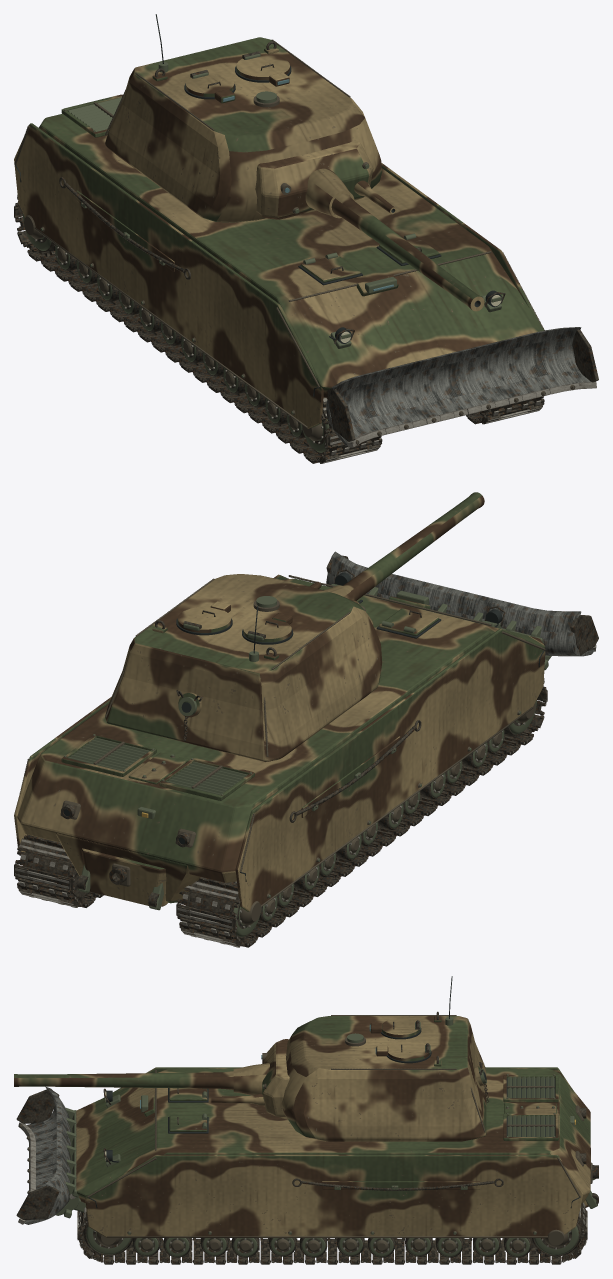
The model's file is maus-engineering.glb.
3 views of the same model, one above another, from view 1: azimuth 30°, elevation 25°; view 2: azimuth 150°, elevation 25°; view 3: azimuth 270°, elevation 25° (orthographic). The views are drawn at different scales.
Parts seen in each view (by area): view 1: 02 · Welded upper hull and glacis, 03 · Continuous deep side armor L, Turret · rolled bow, pitched cheeks and rear armor, Continuous curved moldboard shell, Asymmetric cast gun cradle, Main gun exterior, Bolstered barrel collar, 03 · Continuous deep side armor R, Commander low hatch cover, Flush deck hatch L, Moldboard outer cheek -1, Gunner low hatch cover (+5 smaller); view 2: Turret · rolled bow, pitched cheeks and rear armor, 02 · Welded upper hull and glacis, 03 · Continuous deep side armor L, Continuous curved moldboard shell, Main gun exterior, Rear double towing shoe, 01 · Belly pan and lower nose, 03 · Continuous deep side armor R, Commander low hatch cover, Rear_Sprocket_L, Engine center maintenance spine, Flush deck hatch L (+13 smaller); view 3: 03 · Continuous deep side armor R, Turret · rolled bow, pitched cheeks and rear armor, 02 · Welded upper hull and glacis, Main gun exterior, Continuous curved moldboard shell, Asymmetric cast gun cradle, Rear_Sprocket_R, Cable saddle backing R, Moldboard outer cheek +1, Bolstered barrel collar, Moldboard outer cheek -1, Machined lower edge R (+21 smaller).
Boxes of the visible parts, left/top/right/bottom form: 02 · Welded upper hull and glacis: left=38, top=113, right=544, bottom=397; 03 · Continuous deep side armor L: left=14, top=123, right=323, bottom=428; Turret · rolled bow, pitched cheeks and rear armor: left=105, top=37, right=382, bottom=222; Continuous curved moldboard shell: left=326, top=327, right=590, bottom=445; Asymmetric cast gun cradle: left=255, top=140, right=373, bottom=219; Main gun exterior: left=331, top=193, right=484, bottom=311; Bolstered barrel collar: left=305, top=168, right=354, bottom=218; 03 · Continuous deep side armor R: left=381, top=163, right=540, bottom=324; Commander low hatch cover: left=236, top=54, right=289, bottom=80; Flush deck hatch L: left=301, top=255, right=360, bottom=282; Moldboard outer cheek -1: left=326, top=388, right=355, bottom=441; Gunner low hatch cover: left=185, top=73, right=234, bottom=96; Turret · rolled bow, pitched cheeks and rear armor: left=105, top=574, right=382, bottom=761; 02 · Welded upper hull and glacis: left=17, top=578, right=545, bottom=882; 03 · Continuous deep side armor L: left=235, top=629, right=545, bottom=911; Continuous curved moldboard shell: left=326, top=551, right=594, bottom=656; Main gun exterior: left=343, top=492, right=484, bottom=600; Rear double towing shoe: left=81, top=848, right=167, bottom=906; 01 · Belly pan and lower nose: left=56, top=833, right=200, bottom=903; 03 · Continuous deep side armor R: left=14, top=574, right=288, bottom=852; Commander low hatch cover: left=177, top=607, right=231, bottom=632; Rear_Sprocket_L: left=185, top=882, right=261, bottom=940; Engine center maintenance spine: left=128, top=752, right=188, bottom=784; Flush deck hatch L: left=379, top=608, right=438, bottom=635; 03 · Continuous deep side armor R: left=85, top=1154, right=583, bottom=1237; Turret · rolled bow, pitched cheeks and rear armor: left=281, top=1016, right=486, bottom=1141; 02 · Welded upper hull and glacis: left=76, top=1069, right=590, bottom=1203; Main gun exterior: left=14, top=1071, right=233, bottom=1089; Continuous curved moldboard shell: left=24, top=1086, right=70, bottom=1224; Asymmetric cast gun cradle: left=262, top=1039, right=289, bottom=1118; Rear_Sprocket_R: left=529, top=1223, right=583, bottom=1258; Cable saddle backing R: left=322, top=1181, right=480, bottom=1189; Moldboard outer cheek +1: left=16, top=1186, right=59, bottom=1219; Bolstered barrel collar: left=233, top=1063, right=269, bottom=1095; Moldboard outer cheek -1: left=16, top=1089, right=59, bottom=1123; Machined lower edge R: left=107, top=1236, right=547, bottom=1237.
Size of the model in its own units: 4.07 by 4.35 by 10.23.
Materials: 13 (6 with a texture image).
